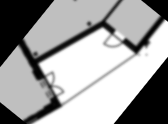door: (101, 32, 124, 54)
double door: (38, 68, 72, 101)
wall: (29, 0, 106, 81), (7, 34, 57, 83), (21, 84, 72, 124), (134, 15, 166, 51), (100, 0, 131, 24), (119, 35, 144, 58), (101, 21, 117, 36)
